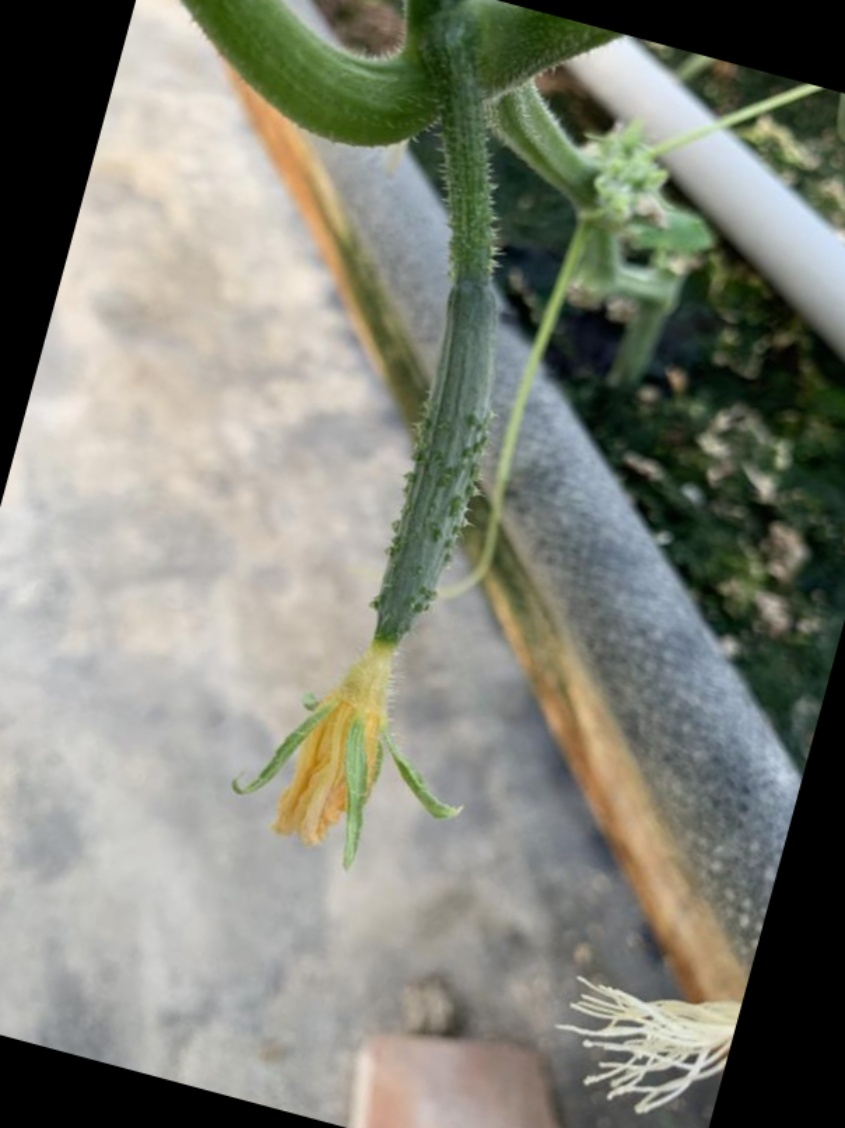bear: (225, 246, 533, 888)
